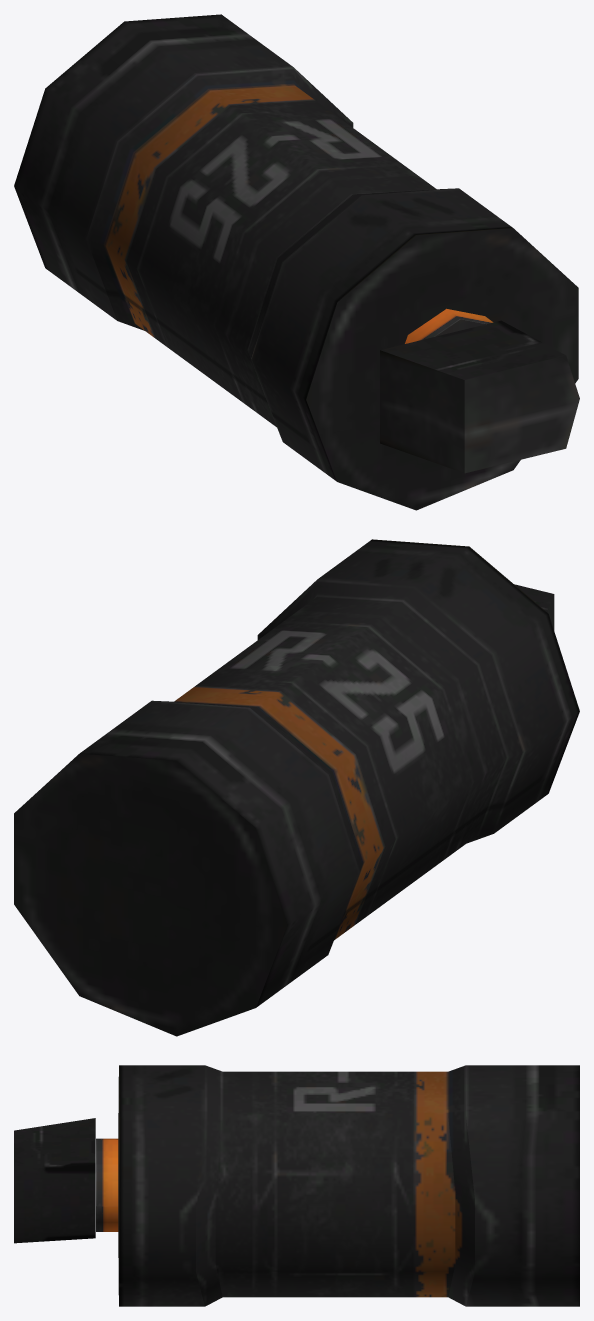
The model's file is t6_wpn_grenade_supply_projectile_LOD1.obj.
3 renders of one model, top to bottom at view 1: azimuth 30°, elevation 25°; view 2: azimuth 150°, elevation 25°; view 3: azimuth 270°, elevation 25°, orthographic. The views are drawn at different scales.
Visible parts, largest first — view 1: mtl_t6_wpn_grenade_supply; view 2: mtl_t6_wpn_grenade_supply; view 3: mtl_t6_wpn_grenade_supply.
Part boxes in pixels (left/top/right/bottom): mtl_t6_wpn_grenade_supply: left=14, top=14, right=579, bottom=510; mtl_t6_wpn_grenade_supply: left=14, top=539, right=579, bottom=1036; mtl_t6_wpn_grenade_supply: left=14, top=1065, right=579, bottom=1306.
Bounding box in the file's own units: 6.09 × 5.88 × 13.88.
